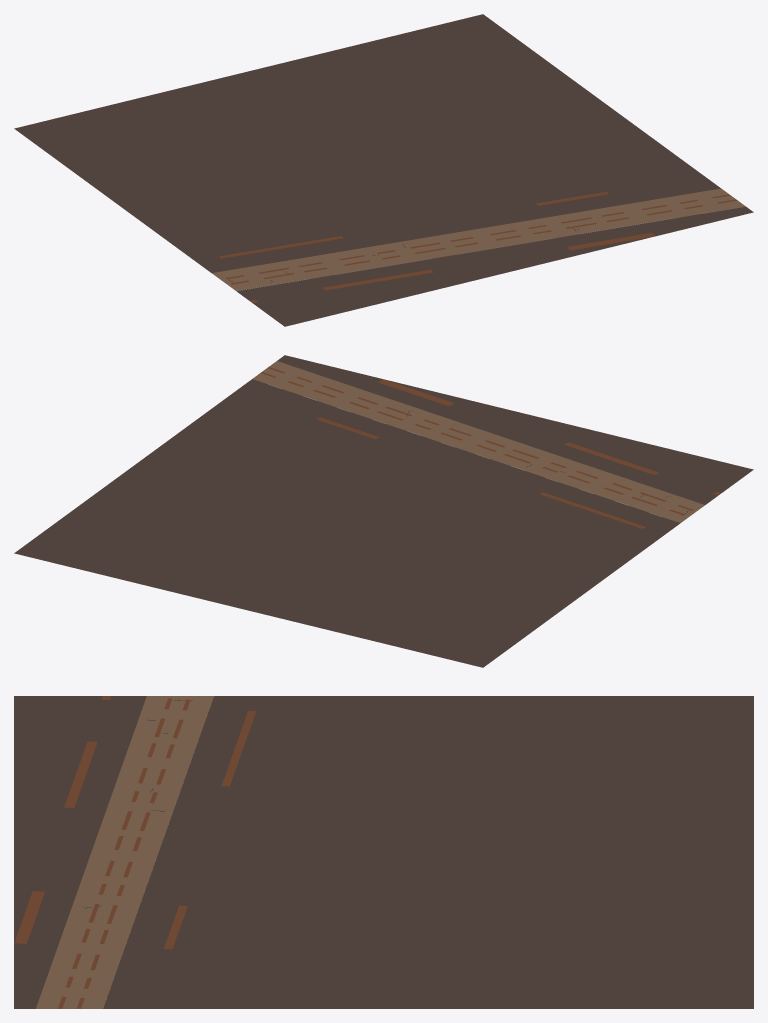
Rendered from crossing-9-3.glb.
The picture shows the model from 3 angles, top to bottom: view 1: azimuth 30°, elevation 25°; view 2: azimuth 150°, elevation 25°; view 3: azimuth 270°, elevation 25°; orthographic projection. The views are drawn at different scales.
Visible parts, largest first — view 1: crossing-9-3; view 2: crossing-9-3; view 3: crossing-9-3.
Part boxes in pixels (x1,y1,x2,y2): crossing-9-3: (14, 14, 753, 326); crossing-9-3: (14, 355, 753, 667); crossing-9-3: (14, 696, 753, 1008).
Bounding box in the file's own units: 100 × 0.0135 × 100.
